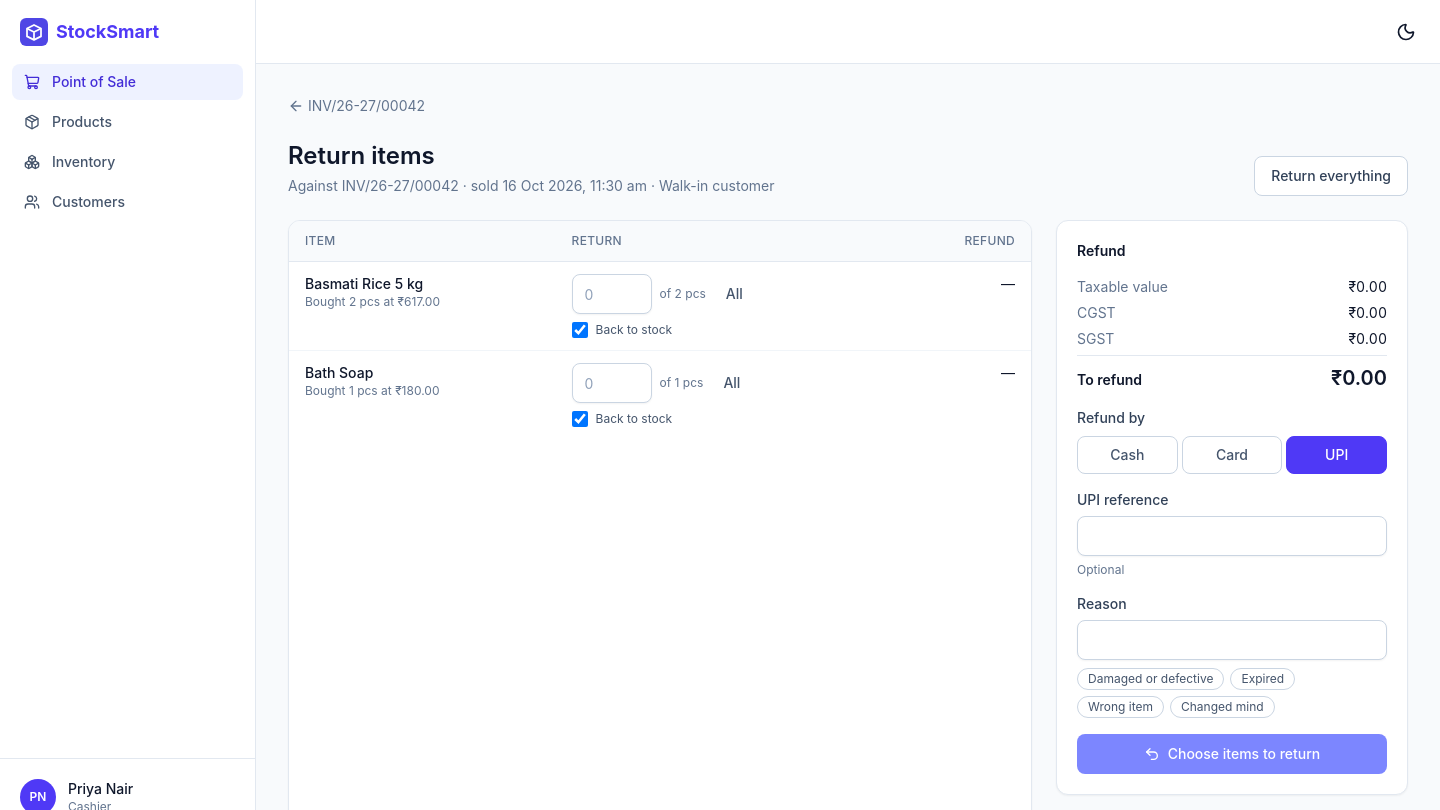
Test: Returns › shows a line error from the server next to its item
Type "1" into the field named "Quantity of Bath Soap to return" at [612, 383], box [572, 363, 652, 403]
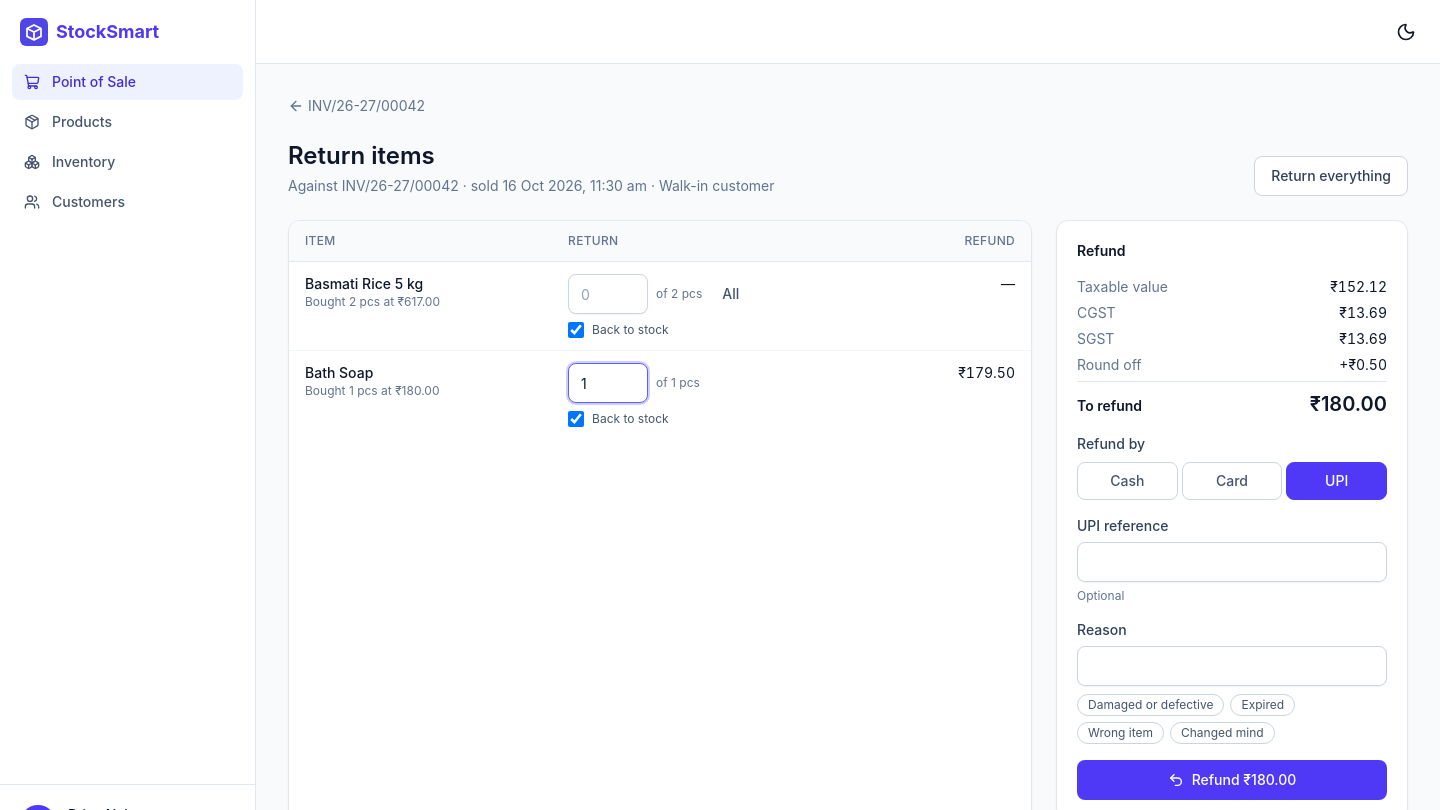
Click the button "Wrong item" at [1120, 733], box [1077, 722, 1164, 744]
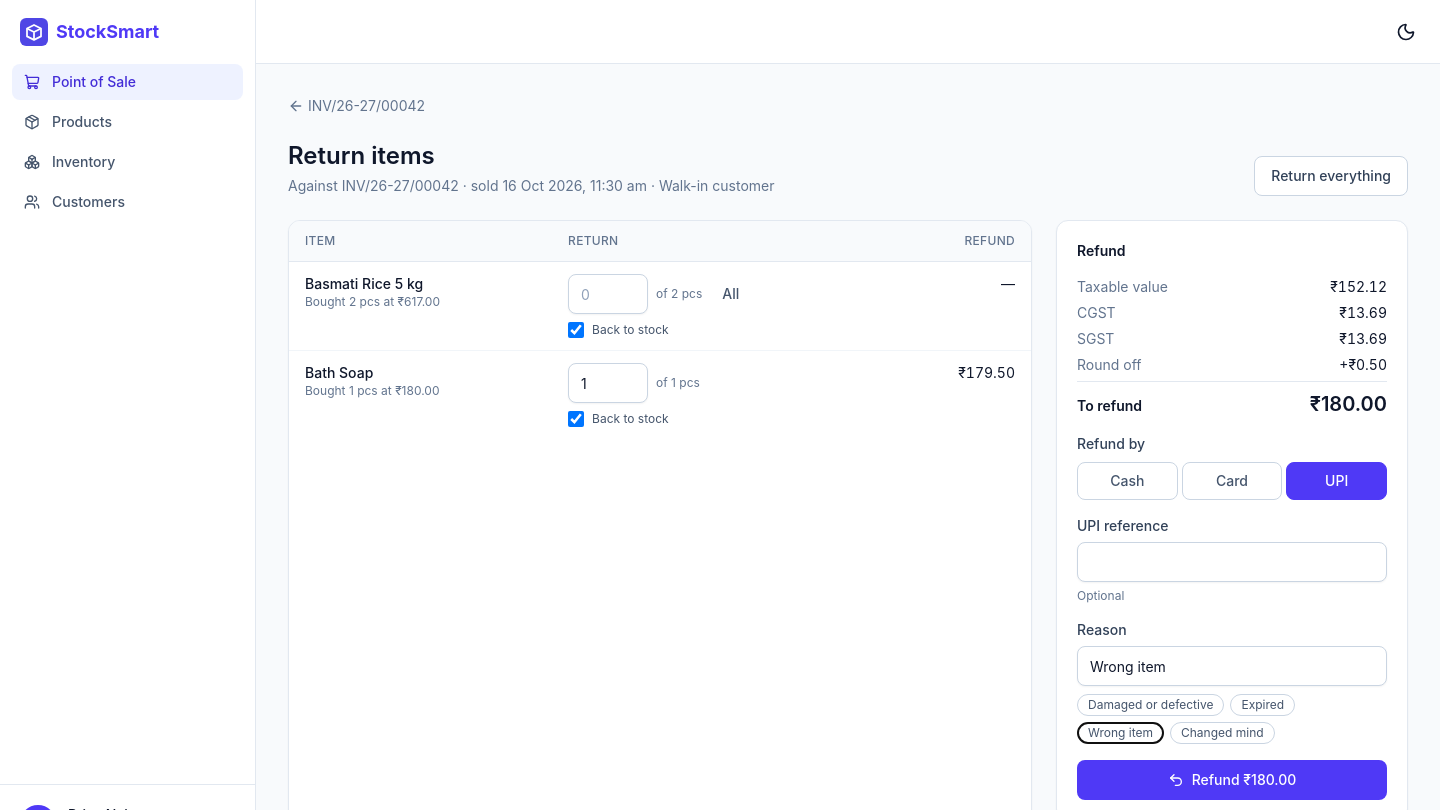
Click the button "Refund ₹180.00" at [1232, 780], box [1077, 760, 1387, 800]
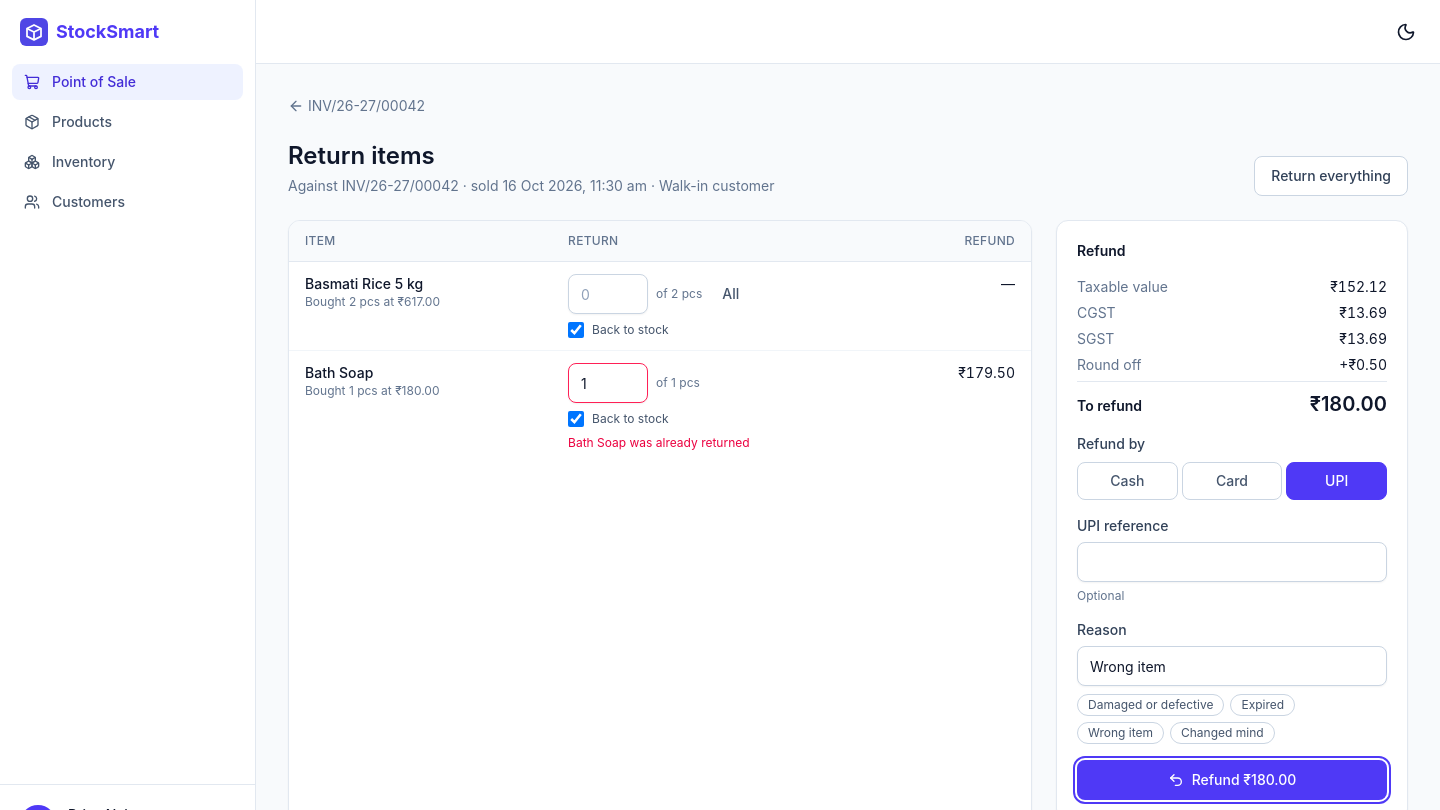
Check: the text "Bath Soap was already returned" is shown, box [568, 435, 750, 450]
